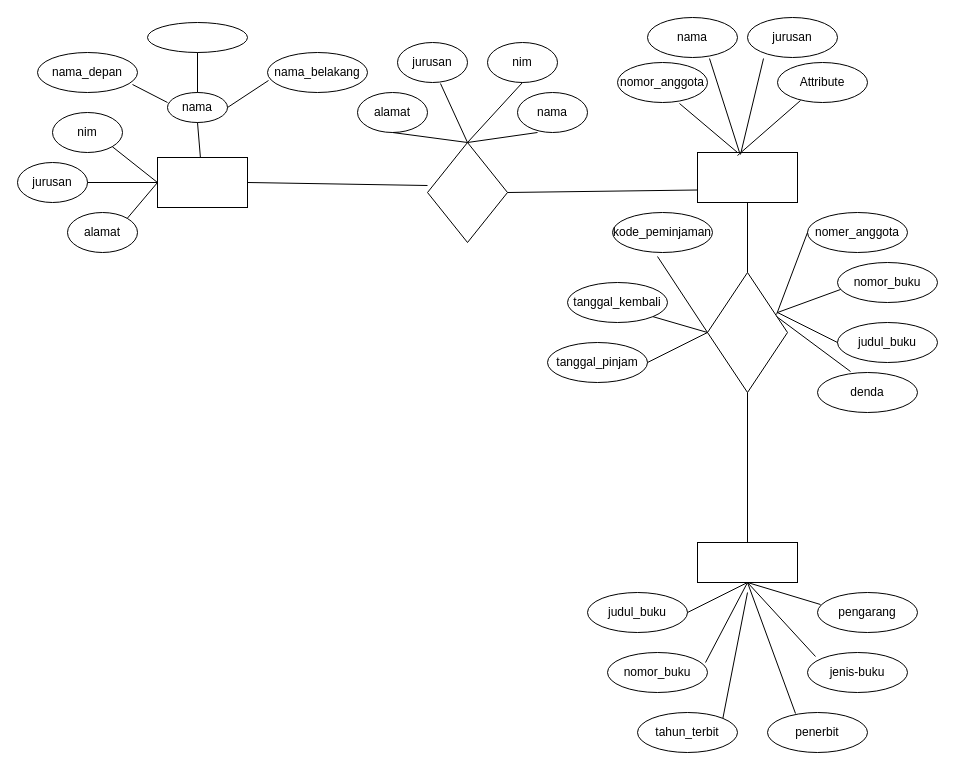
This 955x770 diagram has some shape labels left out. Here are the shapes that lost their labels. From the top down, the centre of each, then its label:
pixel 197 37: nama_tengah
pixel 202 182: Mahasiswa
pixel 467 192: mendaftar
pixel 747 177: Anggota Perpustakaan
pixel 747 332: meminjem
pixel 747 562: buku
